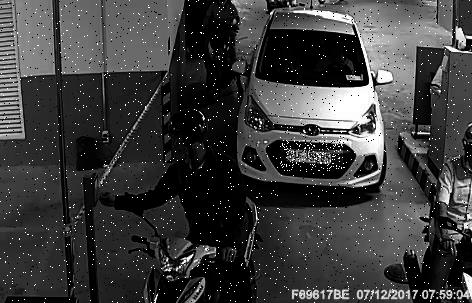License-plate: (282, 141, 346, 172)
